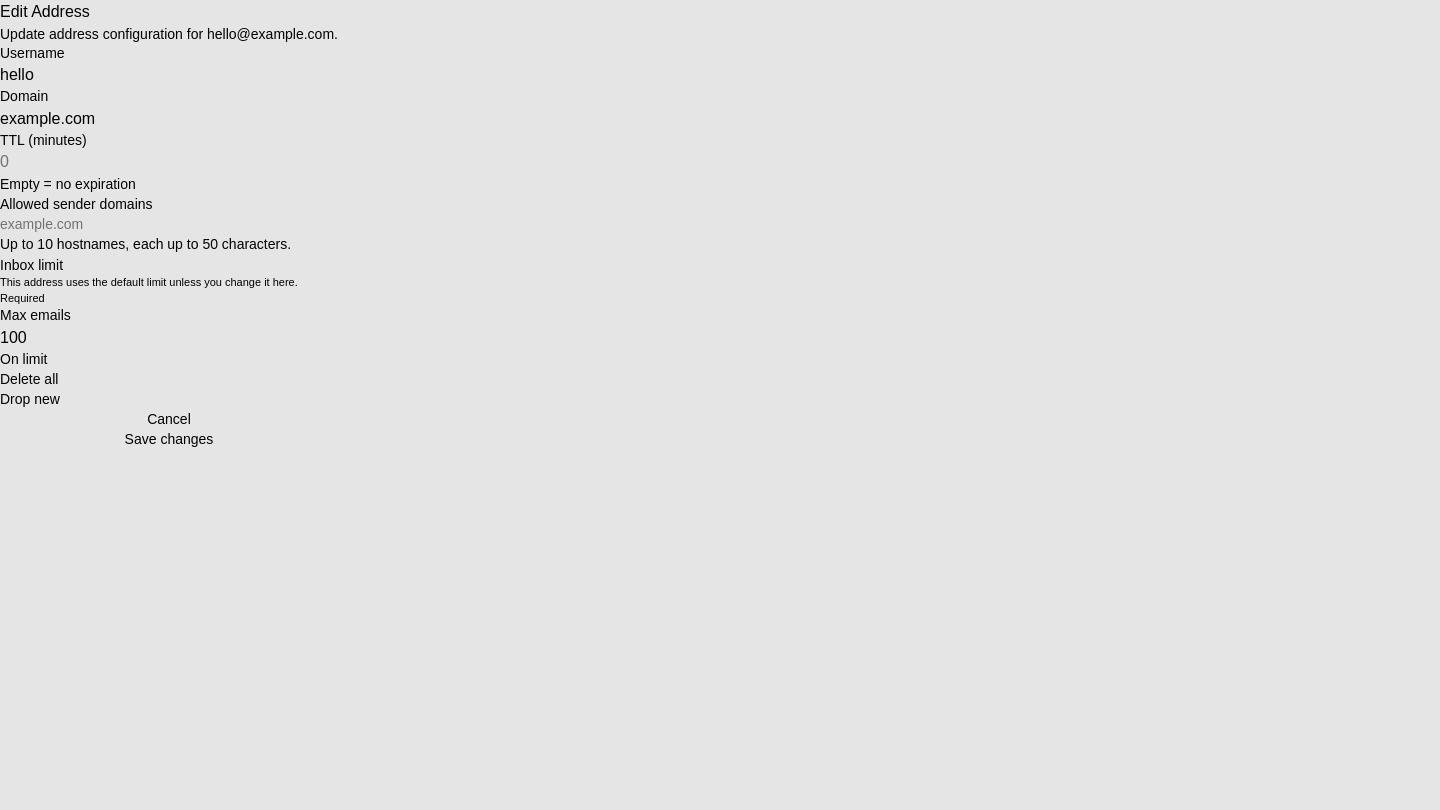
it: EditAddressSheet › only shows the username change warning when the username is edited
Expected: the text "Changing the username replaces this address" is not shown
Expected: the checkbox labelled "I understand the consequences of changing username." is not shown
Replace the text in the field labelled "Username" with "hello-2" at {"x": 169, "y": 75}, box [0,63,338,87]
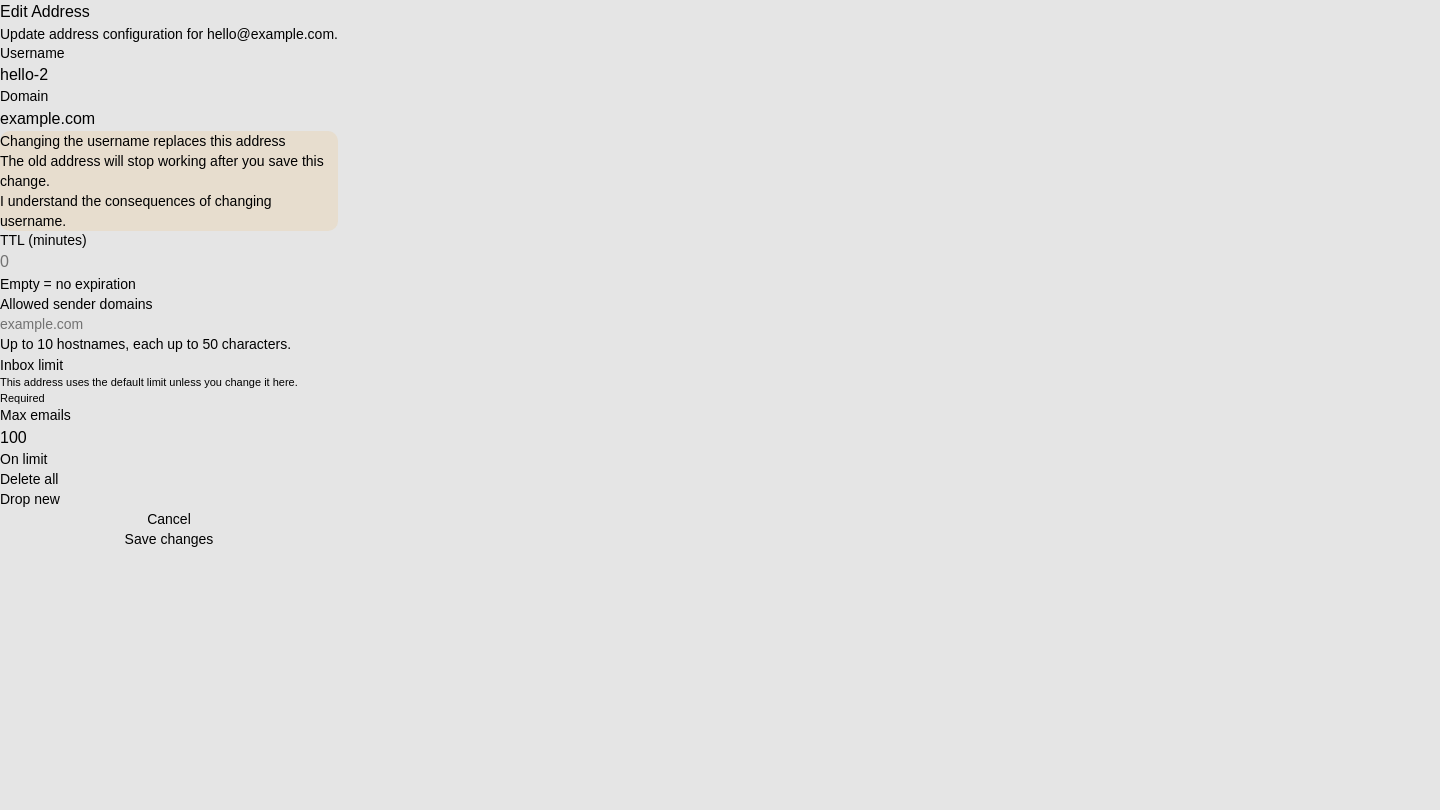
Expected: the text "Changing the username replaces this address" is shown, [0,132,286,148]
Replace the text in the field labelled "Username" with "hello" at {"x": 169, "y": 75}, box [0,63,338,87]
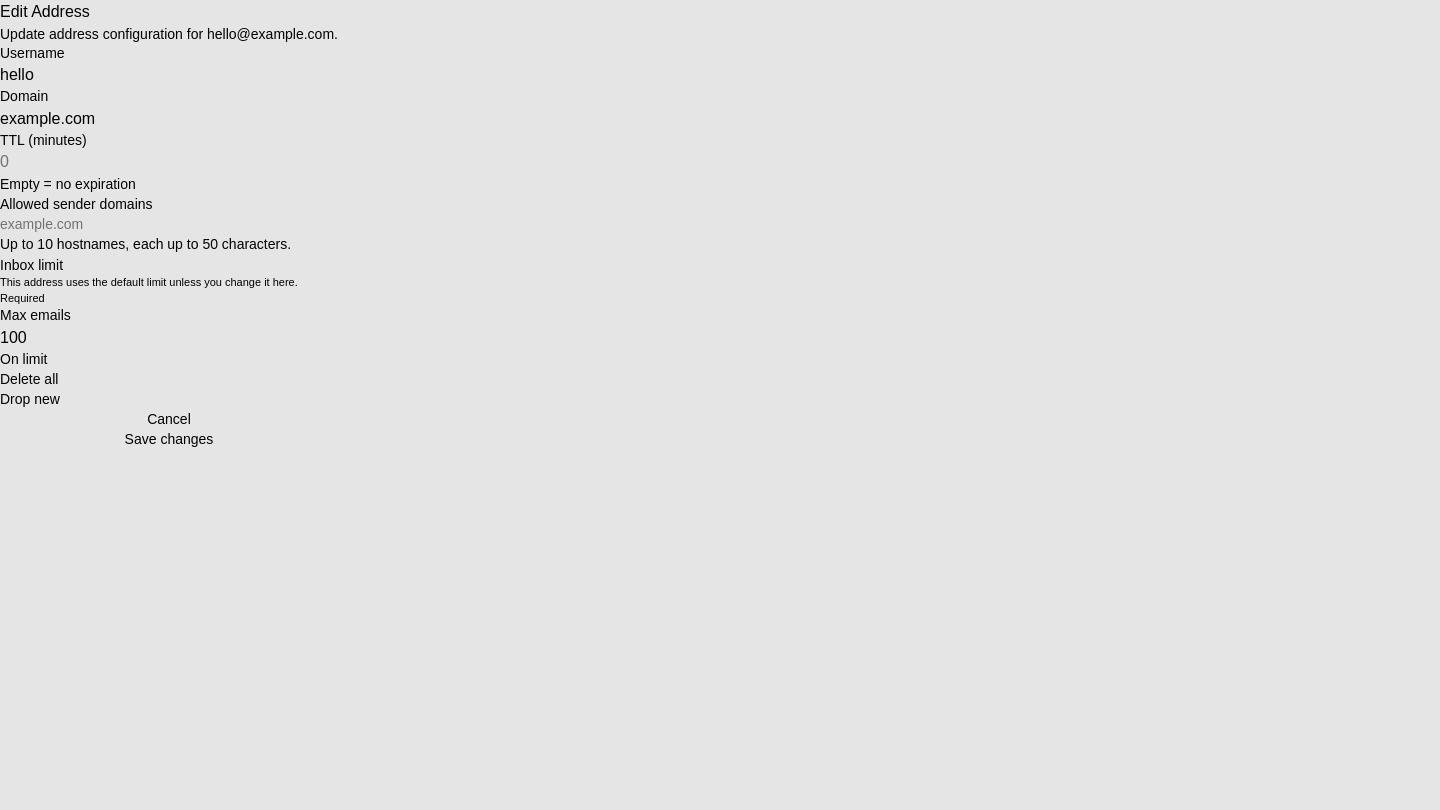
Expected: the text "Changing the username replaces this address" is gone
